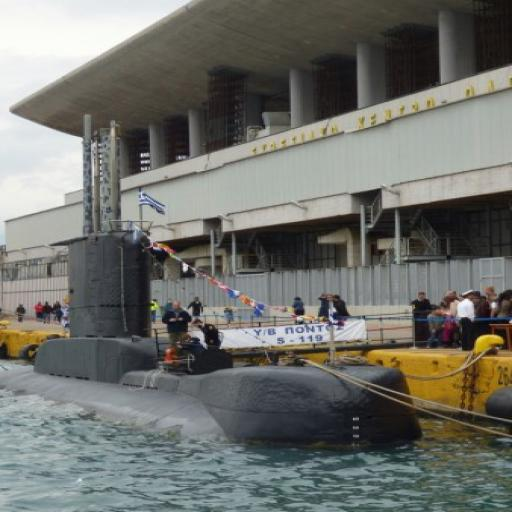submarine: (1, 114, 434, 446)
